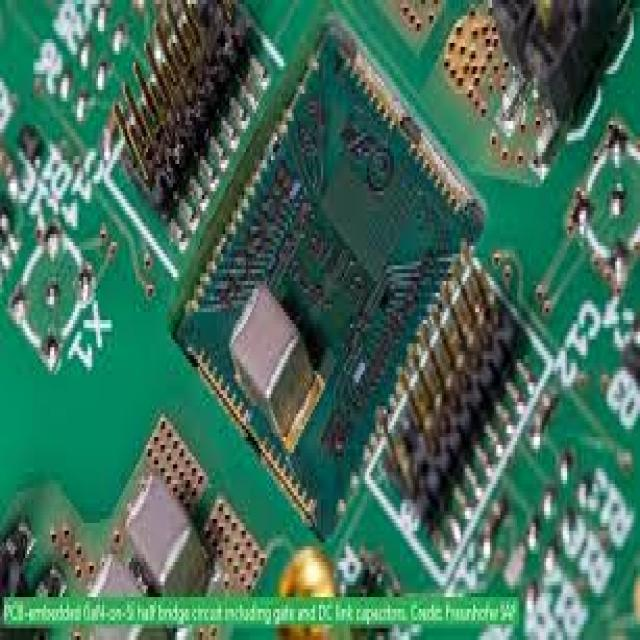pcb: (0, 0, 636, 636), (0, 410, 267, 636), (108, 0, 280, 258), (488, 0, 632, 125)
